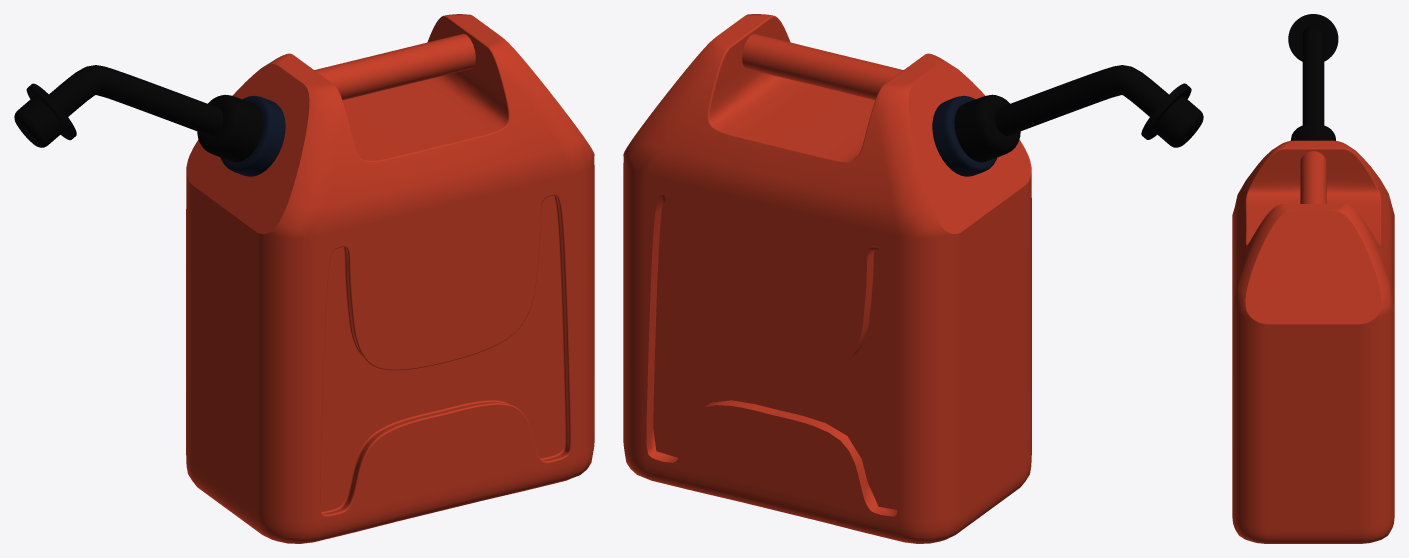
File: ㅇㅕㄴㄹㅛㅌㅗㅇ.fbx
3 renders of one model, left to right at view 1: azimuth 30°, elevation 25°; view 2: azimuth 150°, elevation 25°; view 3: azimuth 270°, elevation 25°, orthographic. The views are drawn at different scales.
Visible parts, largest first — view 1: Object_1.001, Object_5.001, Object_6.001, Object_7.001, Object_4.001, Object_3.001; view 2: Object_1.001, Object_5.001, Object_6.001, Object_7.001, Object_4.001, Object_3.001; view 3: Object_1.001, Object_5.001, Object_3.001, Object_6.001.
Part boxes in pixels (box(x1,y1,x2,y2)): Object_1.001: box(186, 14, 594, 543); Object_5.001: box(49, 65, 223, 135); Object_6.001: box(197, 94, 263, 162); Object_7.001: box(220, 95, 285, 176); Object_4.001: box(14, 96, 63, 147); Object_3.001: box(26, 83, 76, 140); Object_1.001: box(623, 14, 1031, 543); Object_5.001: box(994, 65, 1168, 135); Object_6.001: box(954, 94, 1020, 162); Object_7.001: box(932, 95, 996, 176); Object_4.001: box(1154, 96, 1203, 147); Object_3.001: box(1141, 83, 1191, 139); Object_1.001: box(1232, 140, 1394, 543); Object_5.001: box(1302, 25, 1324, 125); Object_3.001: box(1288, 14, 1338, 61); Object_6.001: box(1290, 123, 1335, 140).
Size of the model in its own units: 82.21 by 70.7 by 29.26.
